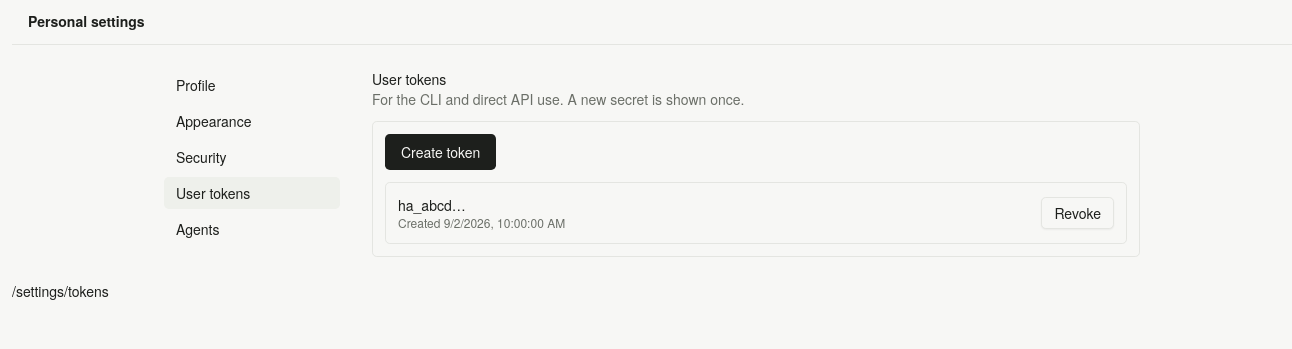
Scenario: says why a token could not be revoked
This screenshot has width=1292, height=349.
Click the button "Revoke" at (1078, 213), box [1041,197,1114,229]
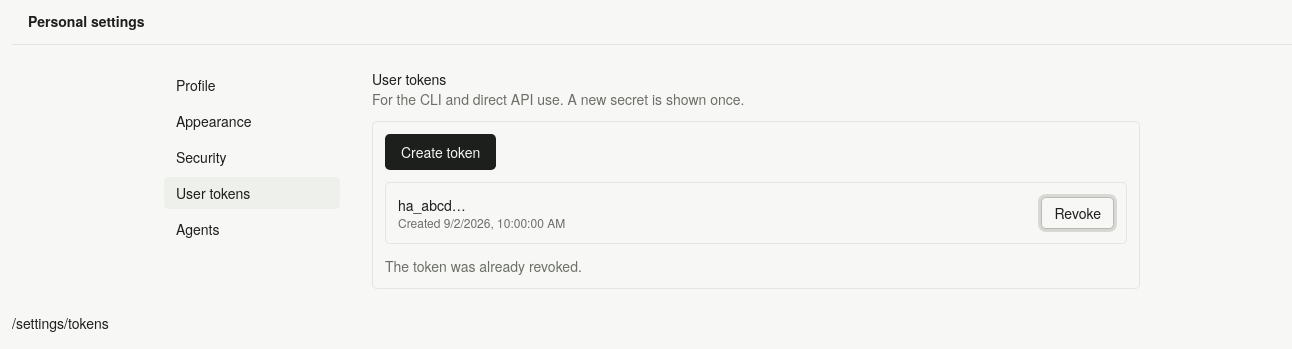
Expected: the message reads "The token was already revoked.", [385,256,582,276]
